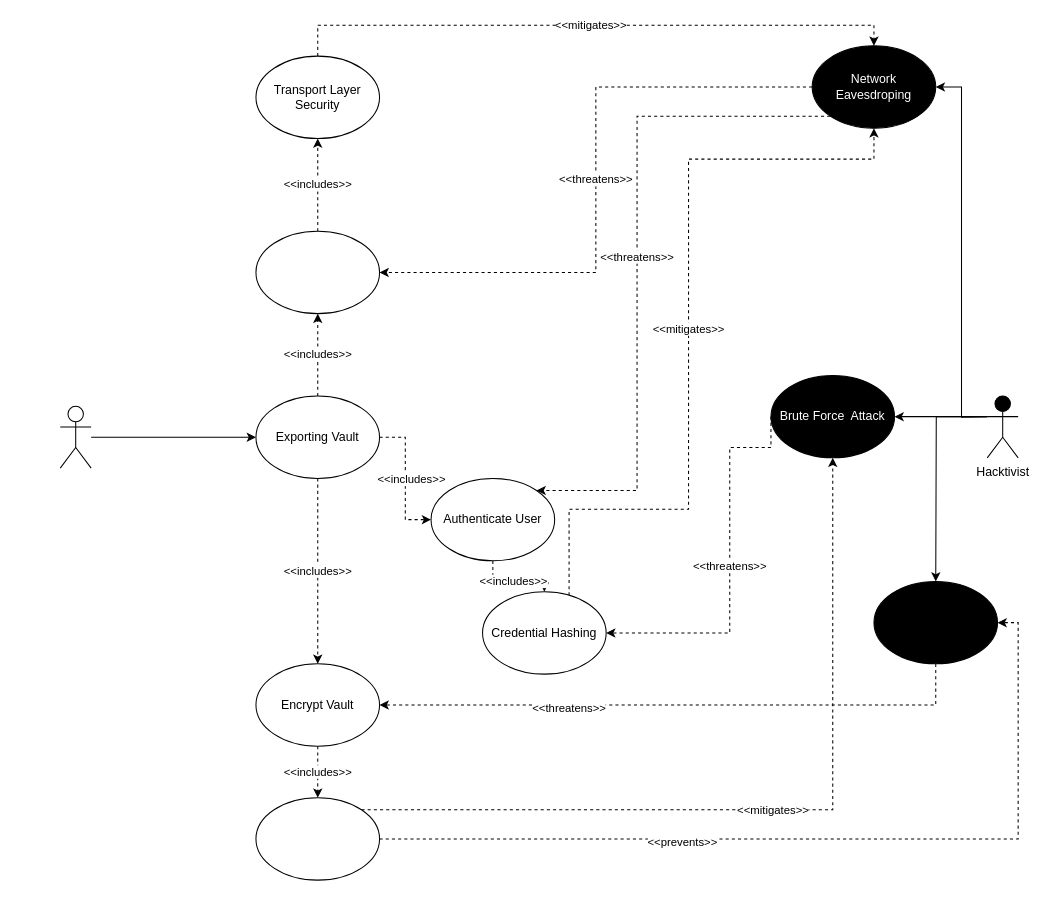
Image size: 1046x898. Some labels were removed from this diagram. Each missing label, with the box of its shape:
Exploit Weak Crypto: (873, 580, 998, 664)
Strong Crypto: (255, 797, 380, 880)
Sync Credentials: (255, 230, 380, 314)
System Administrator: (59, 405, 91, 468)
